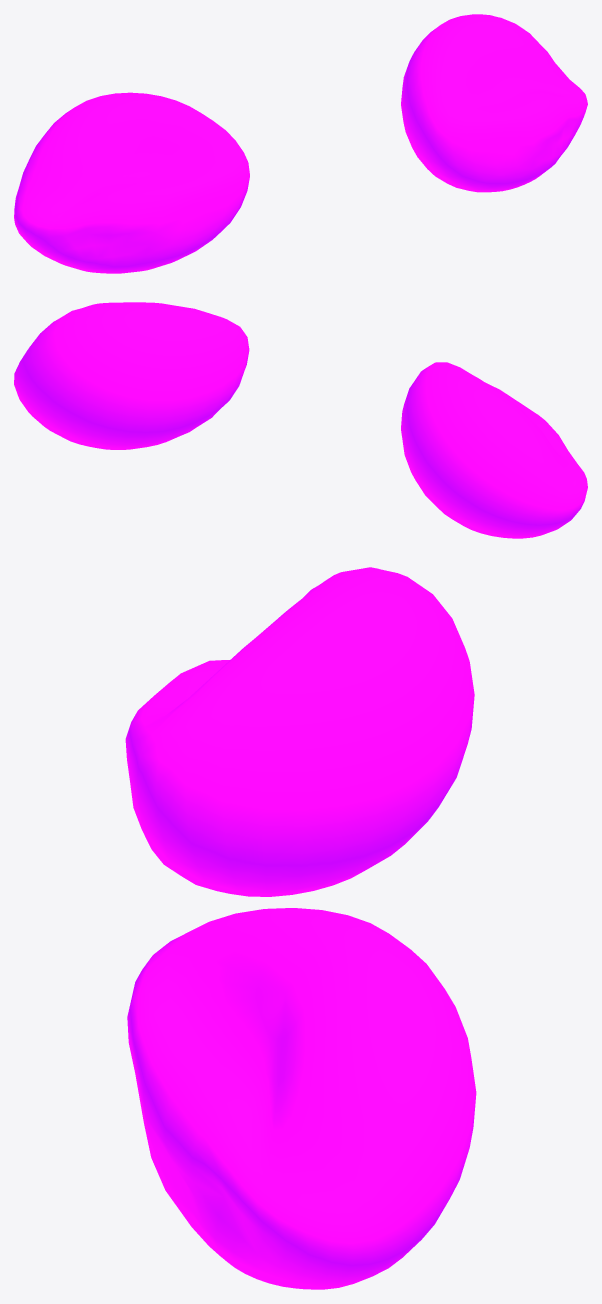
File: Zombie-Purple.glb
3 renders of one model, top to bottom at view 1: azimuth 30°, elevation 25°; view 2: azimuth 150°, elevation 25°; view 3: azimuth 270°, elevation 25°, orthographic. The views are drawn at different scales.
Visible parts, largest first — view 1: Sphere.001; view 2: Sphere.001; view 3: Sphere.001.
Part boxes in pixels (bbox=[...]): Sphere.001: bbox=[14, 14, 587, 273]; Sphere.001: bbox=[14, 302, 587, 538]; Sphere.001: bbox=[125, 567, 476, 1289].
Bounding box in the file's own units: 0.3788 × 0.1042 × 0.1024.
